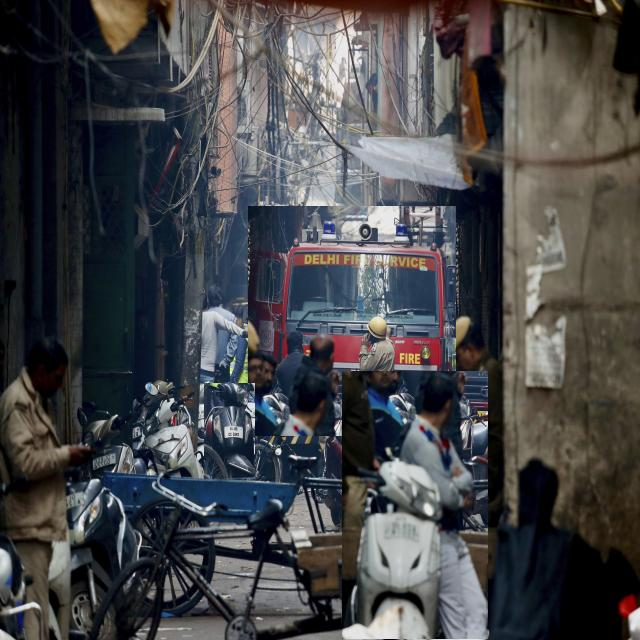emergency: (248, 206, 456, 436)
motorcycle: (342, 371, 488, 639), (138, 380, 204, 478), (204, 383, 255, 479)
